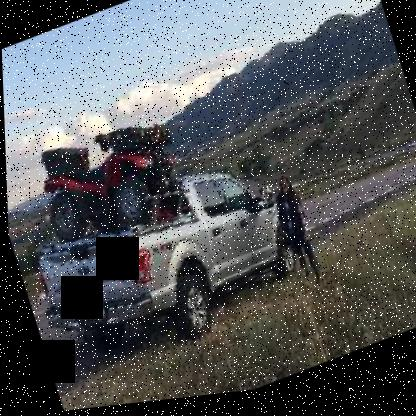not_emergency: (3, 59, 361, 415)
